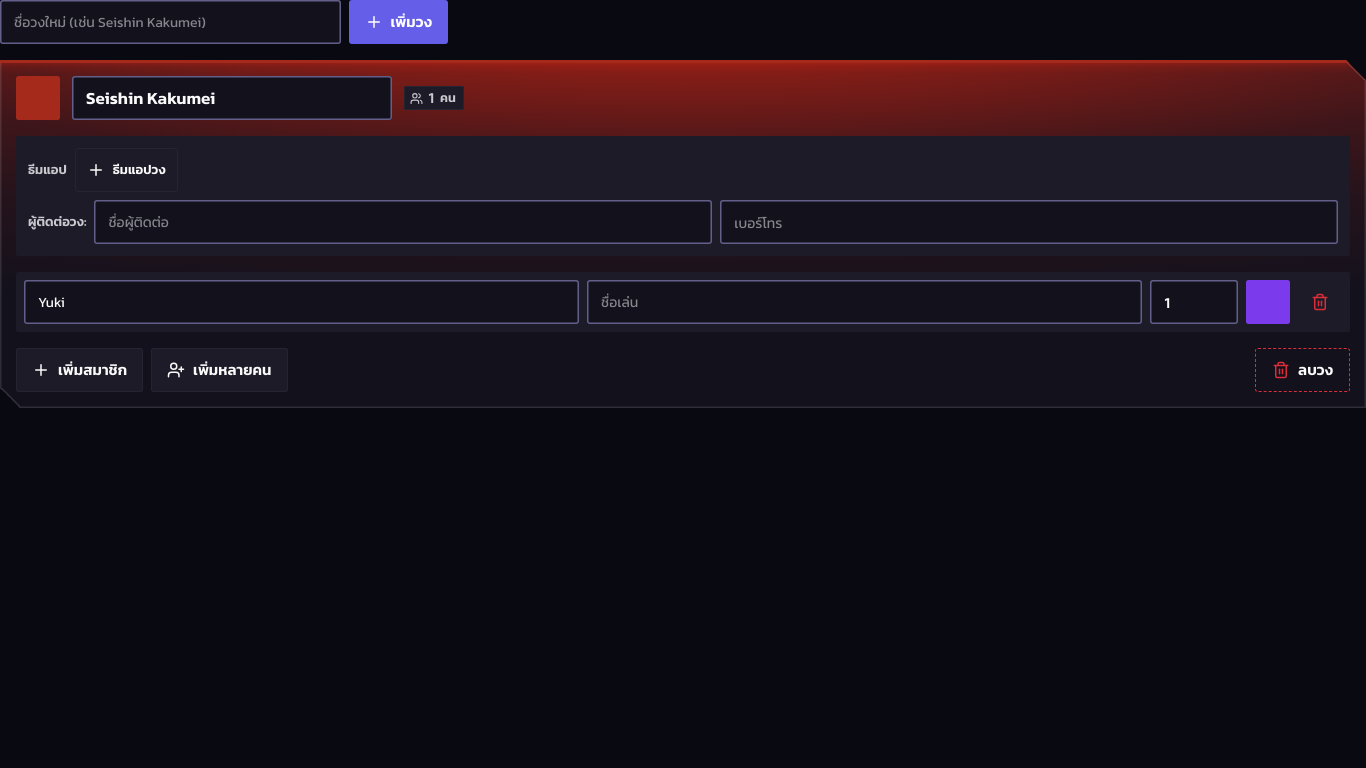
Test: Artists: ออกจากวง tells past lineups from upcoming ones › names three upcoming shows and counts the rest
The image size is (1366, 768).
Click the button named "ลบสมาชิก".
click(1320, 302)  # box [1298,280,1342,324]
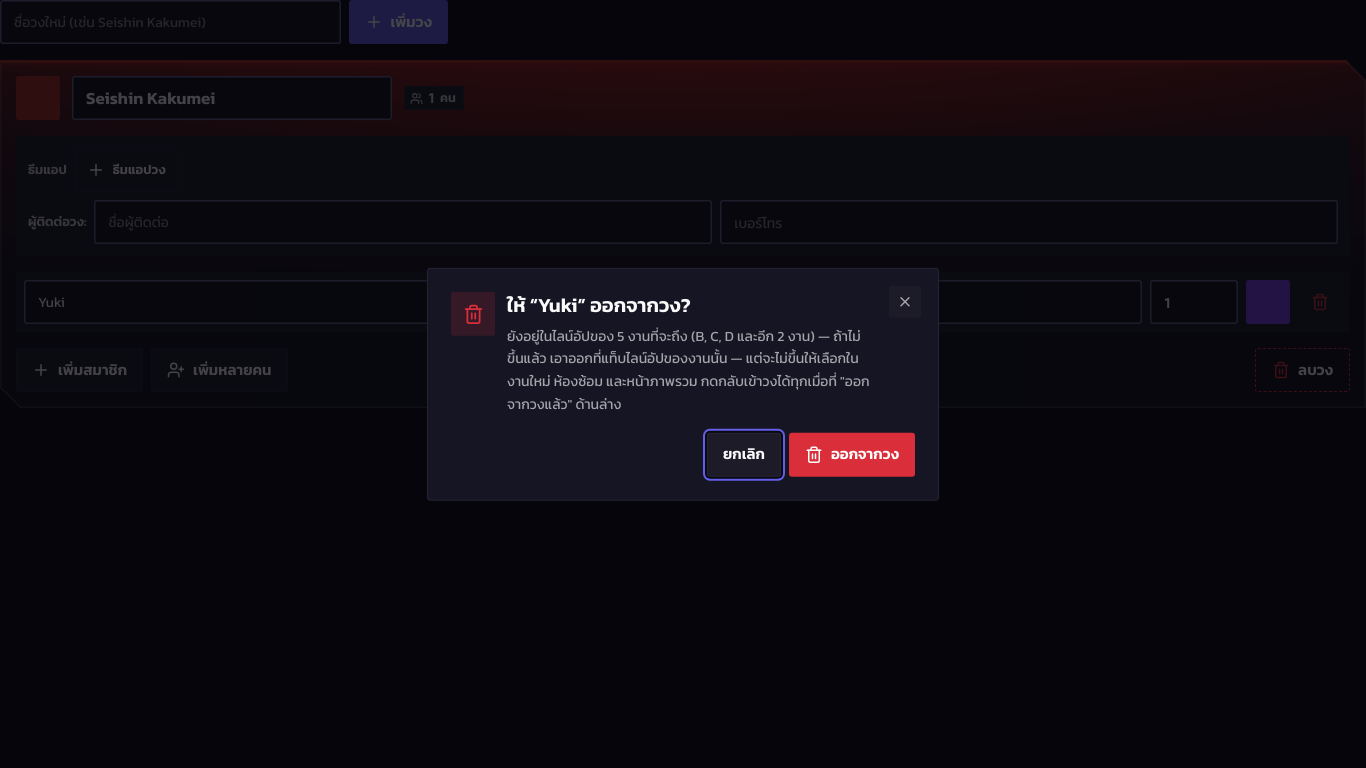
Expected: the text "ไลน์อัปของ 5 งานที่จะถึง (B, C, D และอีก 2 งาน)" is shown, [507,325,870,415]
